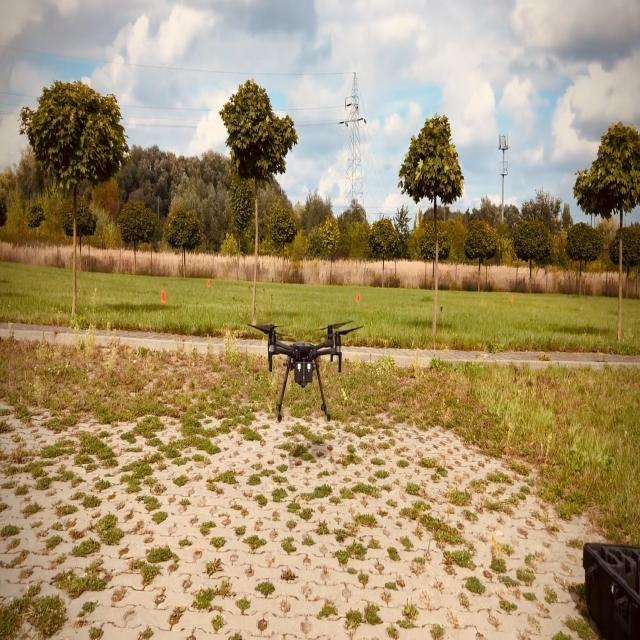drone: (246, 319, 364, 422)
